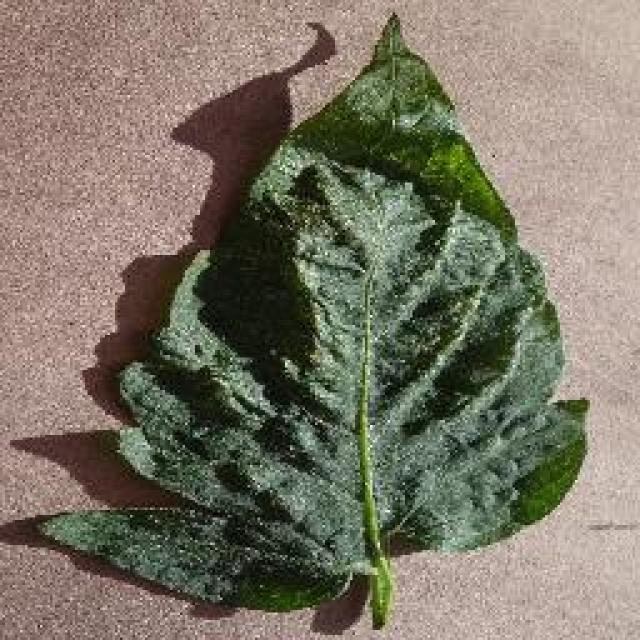Tomato___Spider_mites Two-spotted_spider_mite: (38, 15, 588, 628)
